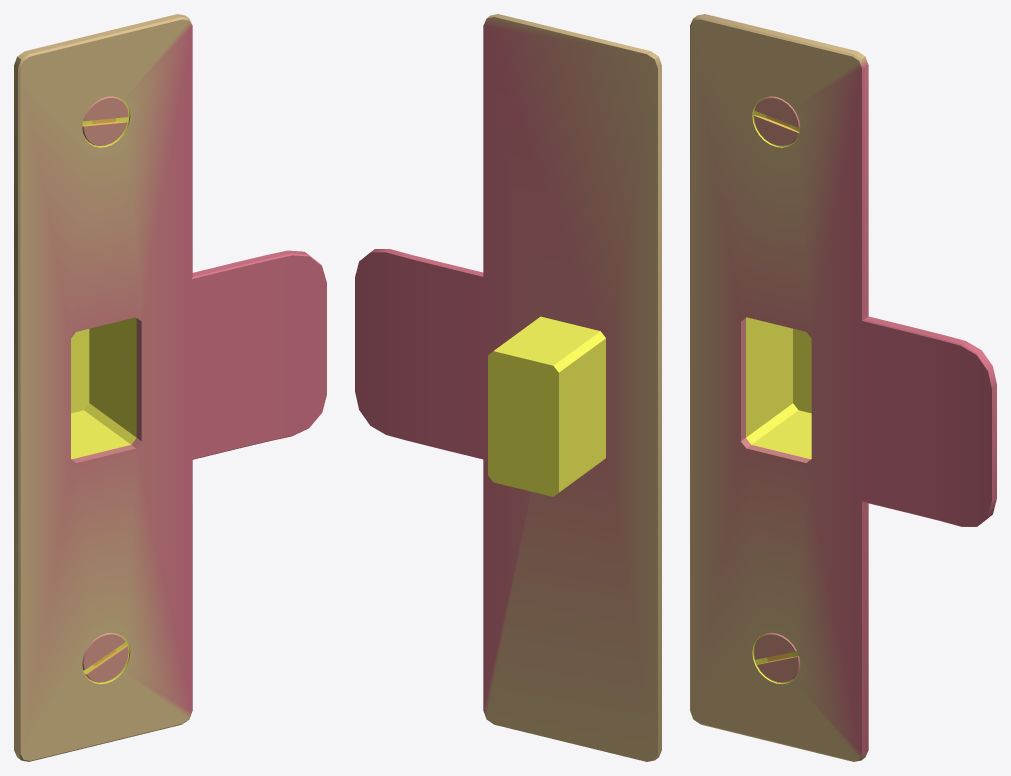
File: Kit_Lock_StrikeBored_Brass.fbx
3 renders of one model, left to right at view 1: azimuth 30°, elevation 25°; view 2: azimuth 150°, elevation 25°; view 3: azimuth 330°, elevation 25°, orthographic.
Parts seen in each view (by area): view 1: Kit_Lock_StrikeBored_LOD0; view 2: Kit_Lock_StrikeBored_LOD0; view 3: Kit_Lock_StrikeBored_LOD0.
Boxes of the visible parts, x1,y1,x2,y2 form: Kit_Lock_StrikeBored_LOD0: [14, 14, 326, 761]; Kit_Lock_StrikeBored_LOD0: [355, 14, 661, 761]; Kit_Lock_StrikeBored_LOD0: [690, 14, 996, 761].
Size of what is drawn, in the model's own units: 0.056 by 0.124 by 0.0174.
